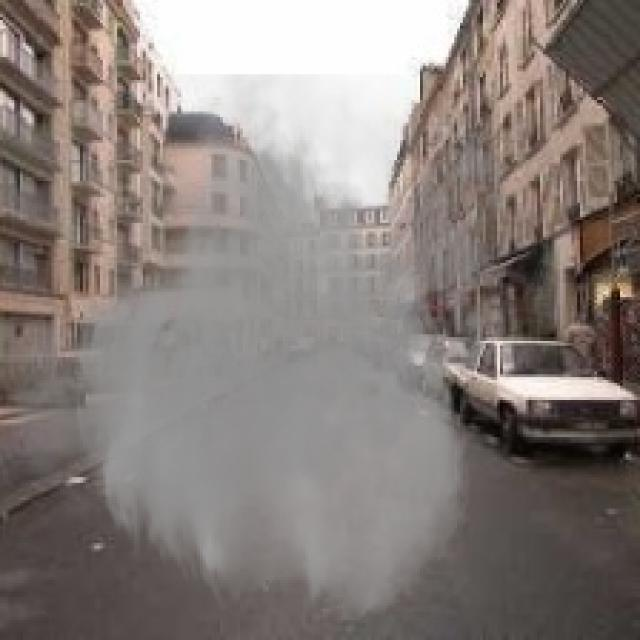smoke: (0, 74, 526, 626)
